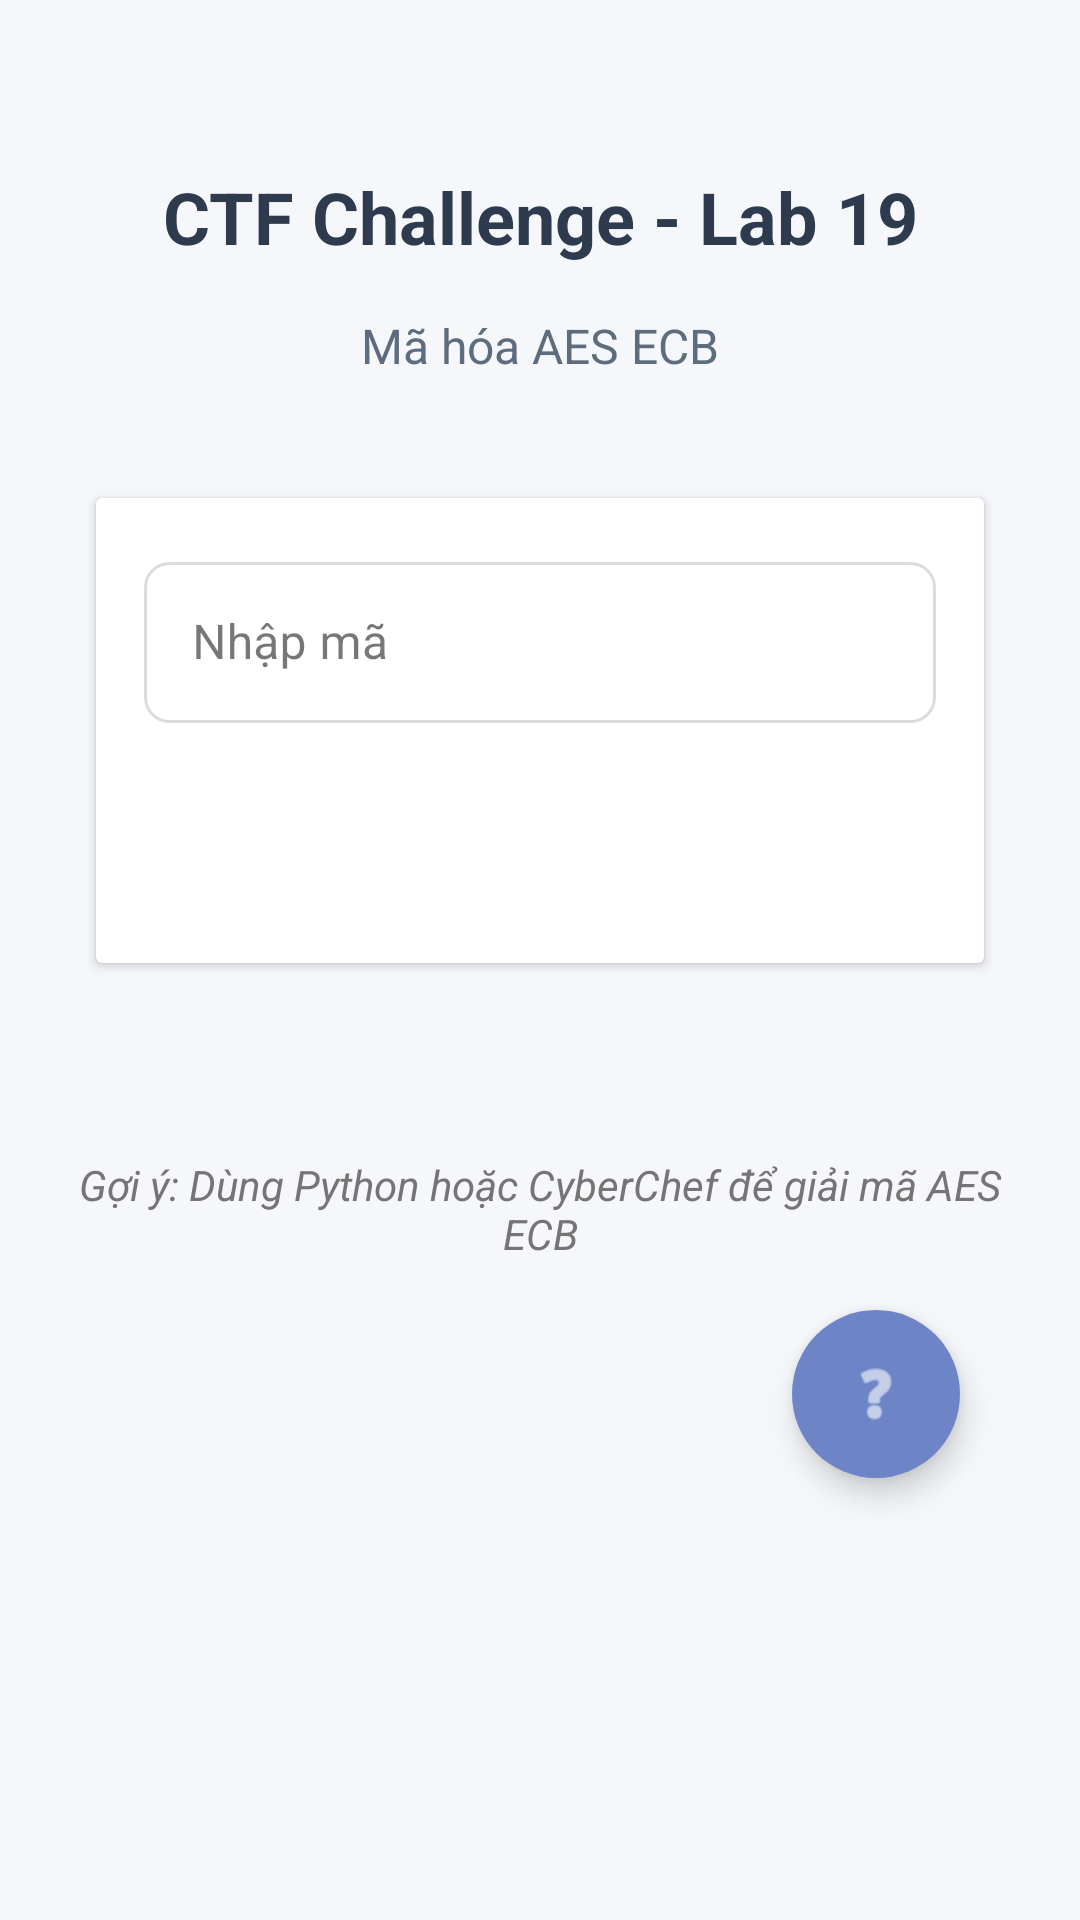

Icon click points for this 1080px×1920px phone screenshot, format [x,y]:
Help: [876,1394]
